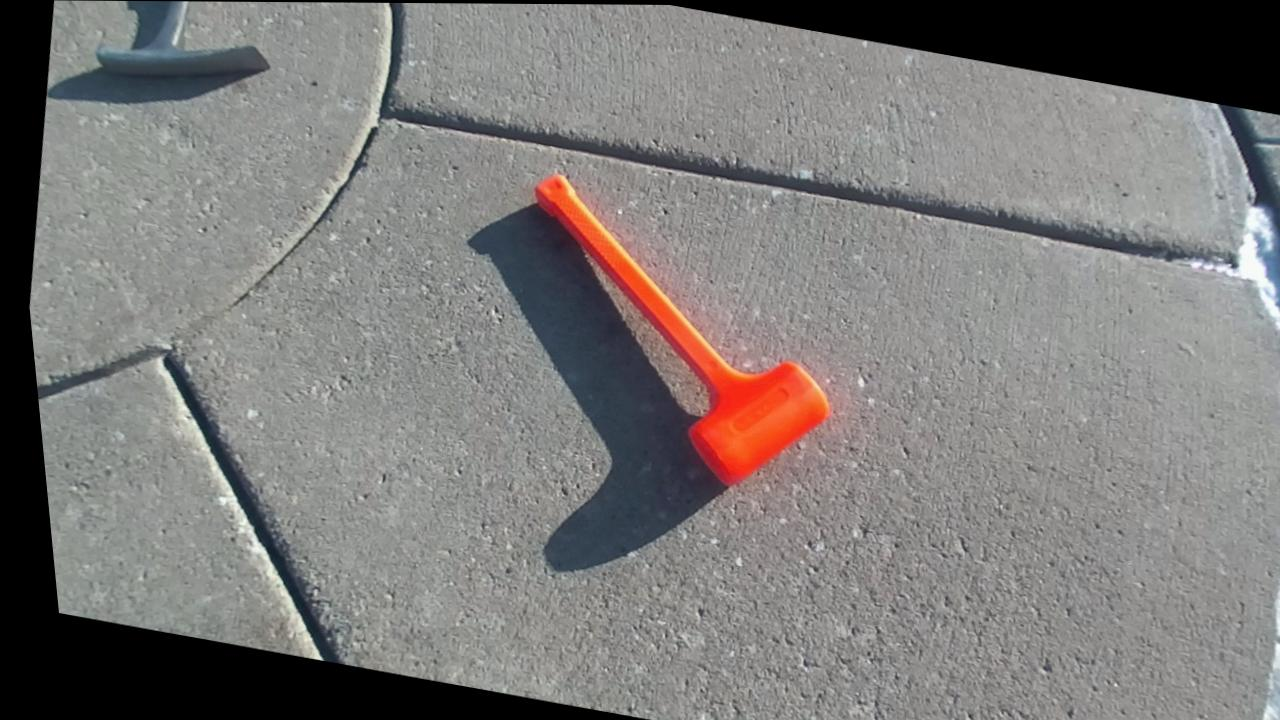mallet: (536, 174, 828, 485)
pick: (96, 1, 268, 75)
